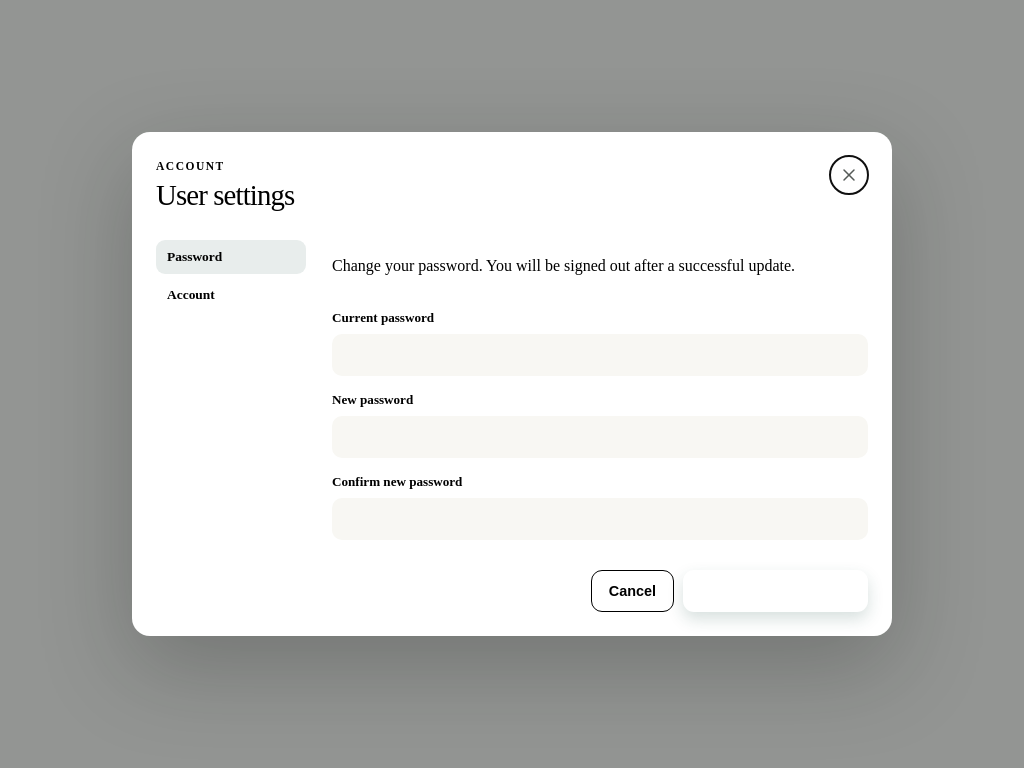
it: UserSettingsDialog account deletion › requires a password before deleting the account
Click the button "Account" at coordinates (231, 295), box [156,278,306,312]
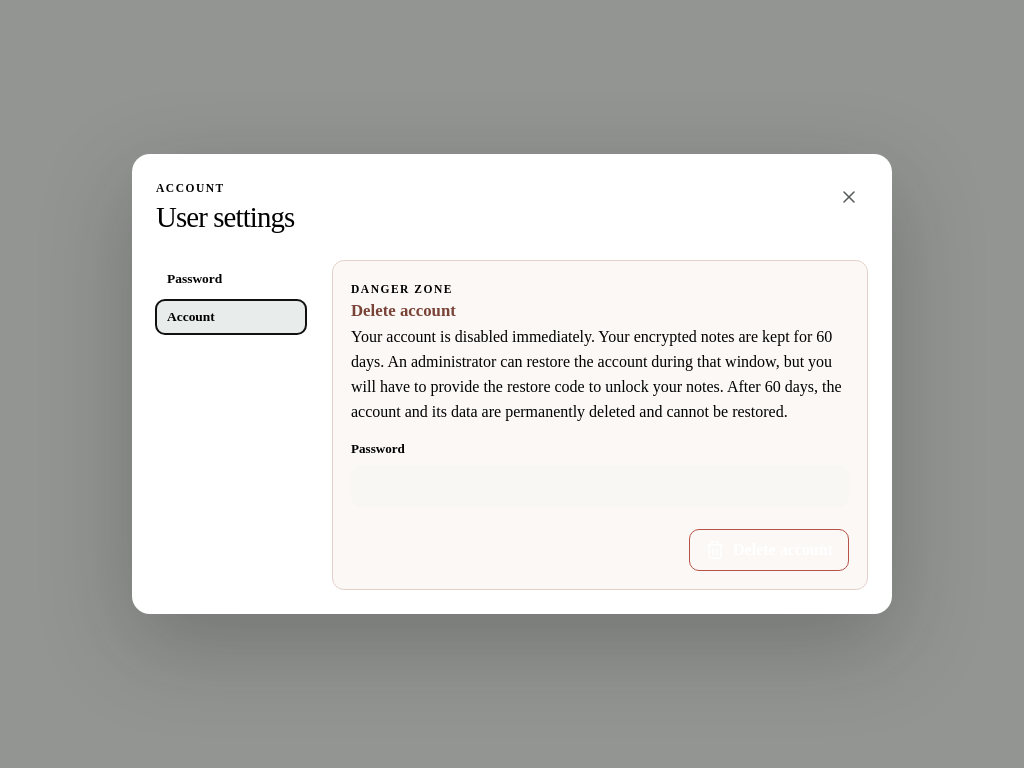
Click the button "Delete account" at coordinates (769, 550), box [689,529,849,571]
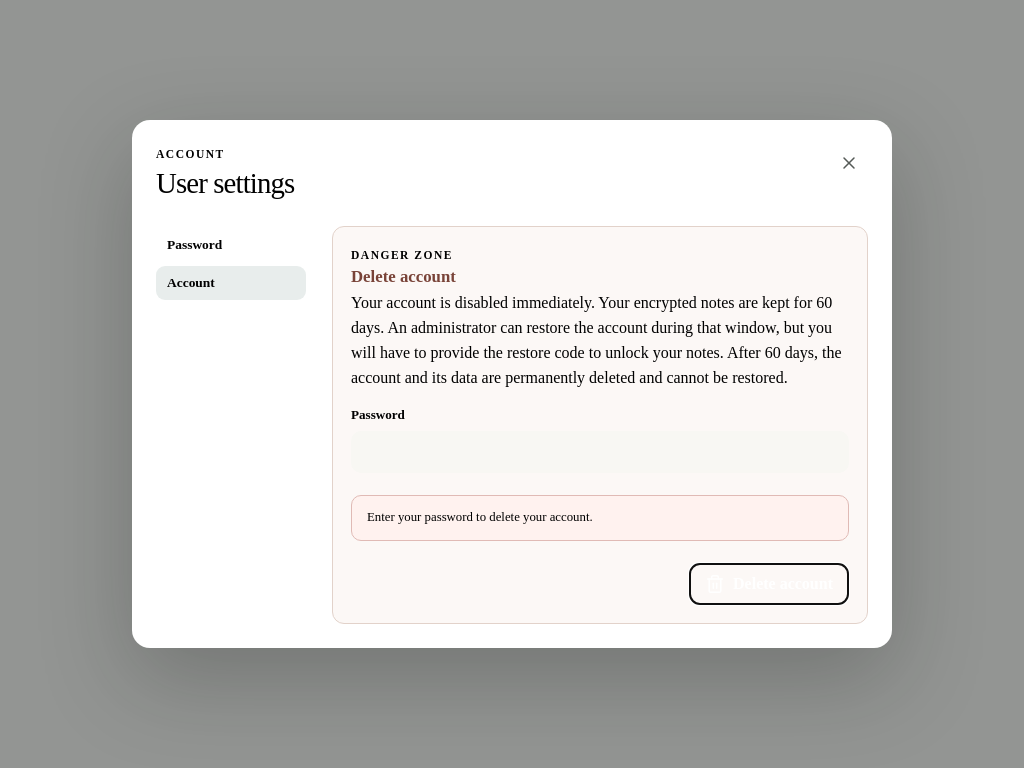
Expected: the message reads "Enter your password to delete your account.", [367,510,593,524]
